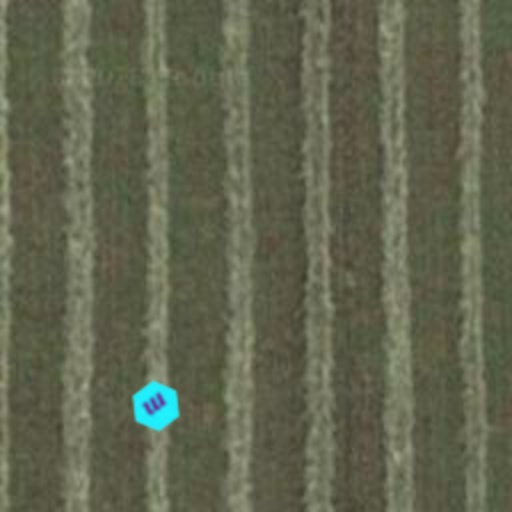hexagon: (120, 370, 192, 442)
